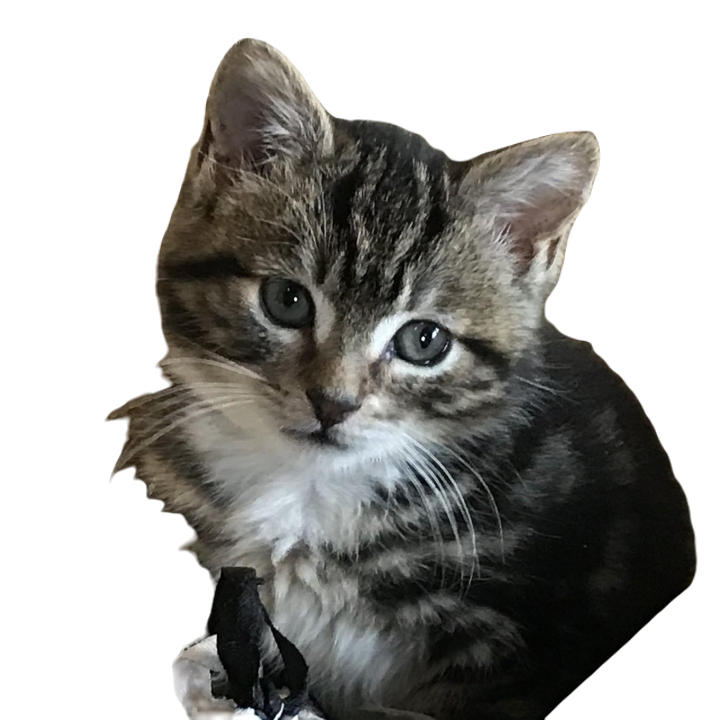Cat: (103, 33, 699, 713)
